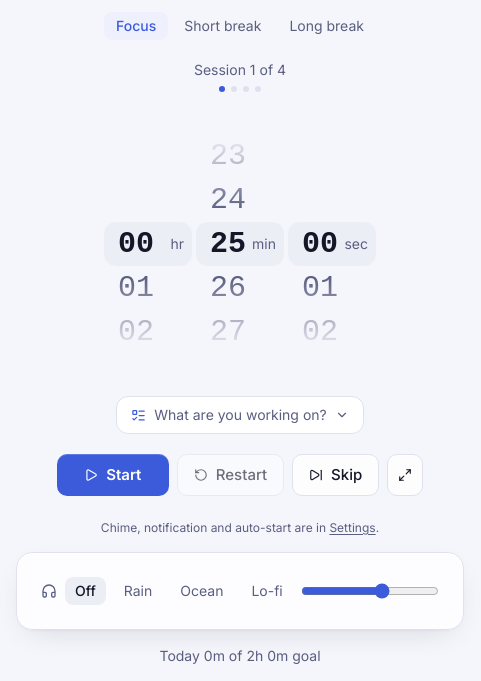
the Focus page › says when there are no open tasks, and closes the list with Escape
(page scrolled)
Click the button "What are you working on?" at (240,415), box [116,396,364,434]
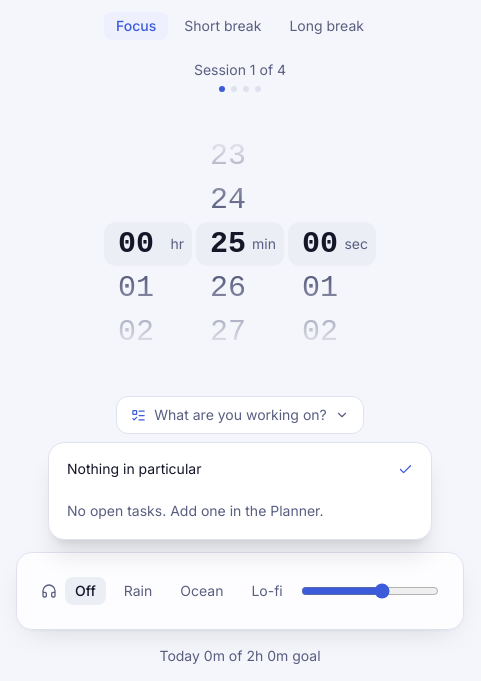
Expected: the text "No open tasks. Add one in the Planner." is shown, [67,502,324,519]
Press Escape
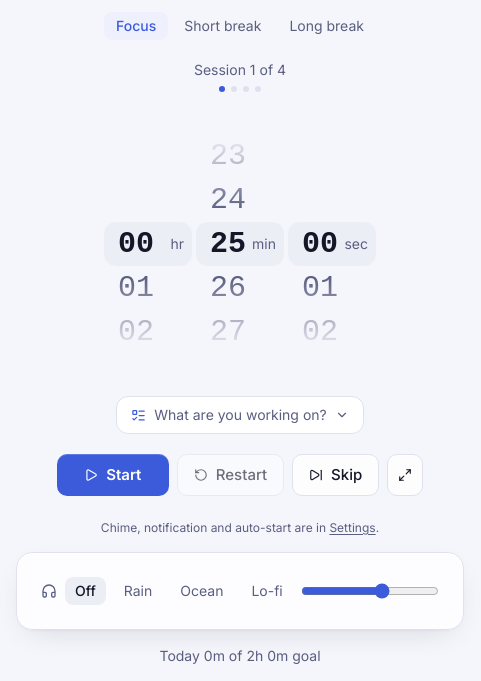
Expected: the list is gone
